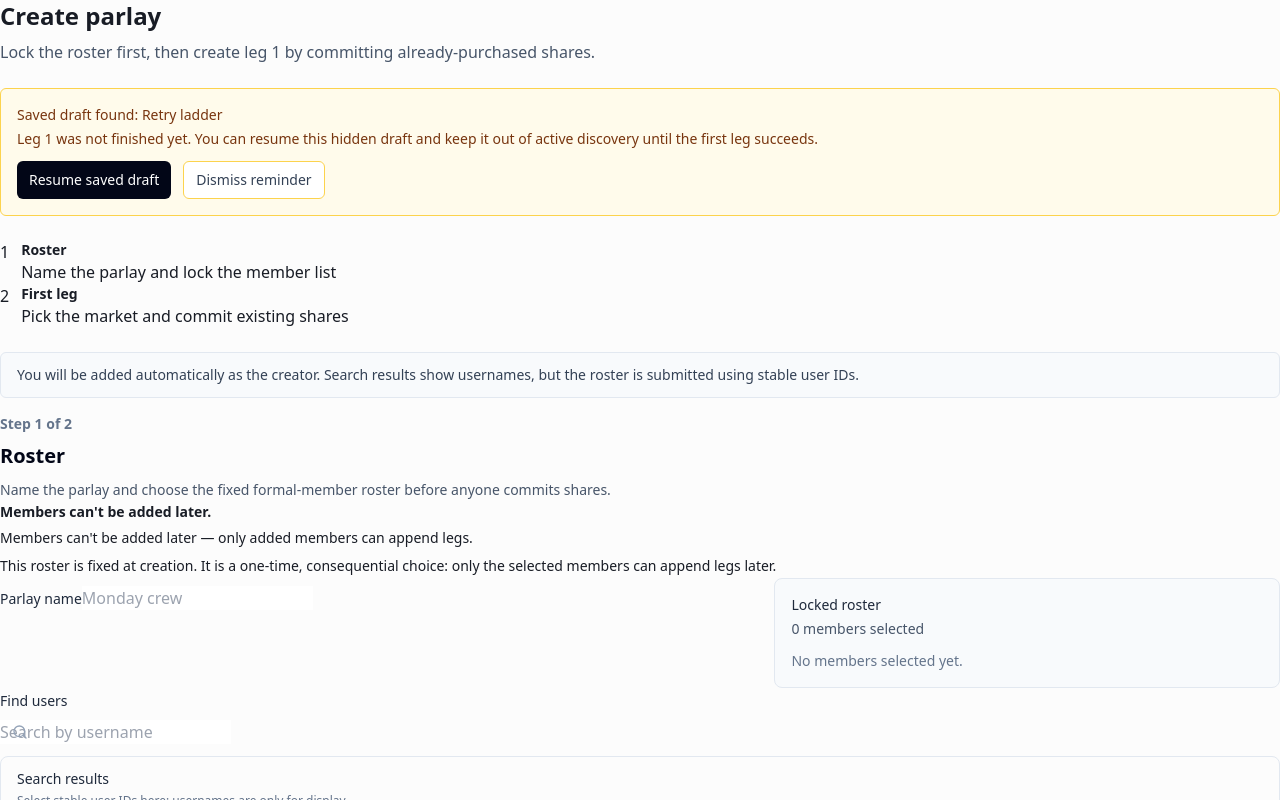
Test: ParlayCreateFlow › shows a neutral empty state pointing to /markets when the creator holds nothing yet
Type "Empty ladder" into the field labelled "Parlay name".
click(197, 598); type("Empty ladder")  # box x1=82 y1=586 x2=313 y2=610
(page scrolled)
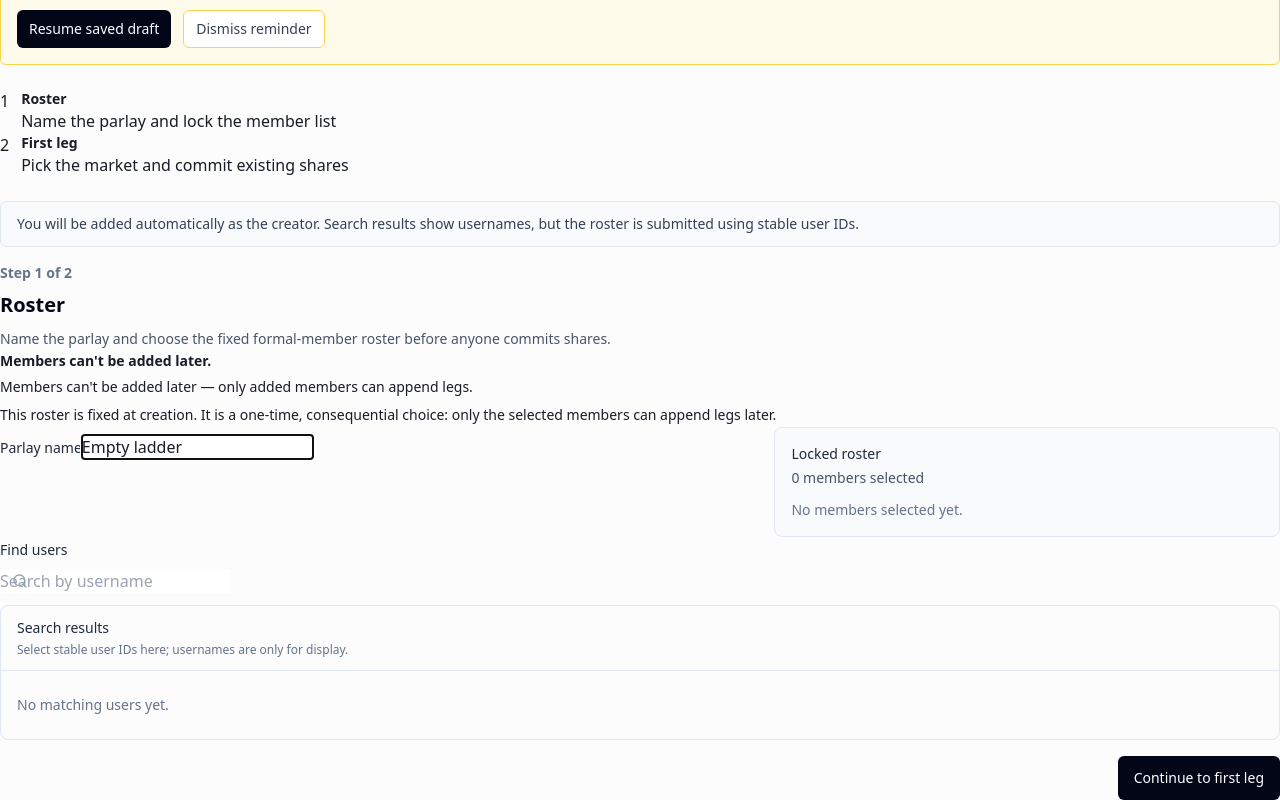
Click the button "Continue to first leg".
click(1199, 778)  # box x1=1118 y1=756 x2=1279 y2=799
(page scrolled)
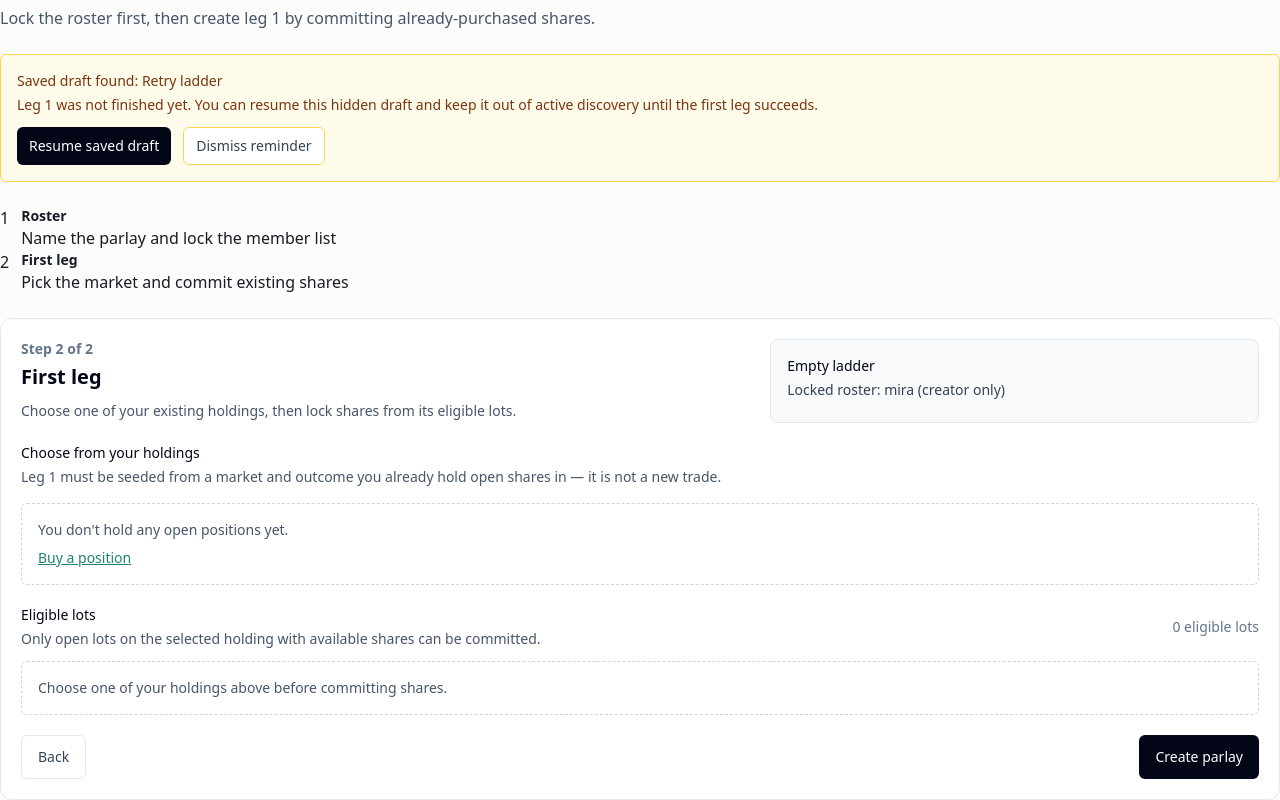
expect the text "You don't hold any open positions yet." is shown: met, box x1=38 y1=520 x2=288 y2=539
expect the text "Choose one of your holdings above before committing shares." is shown: met, box x1=21 y1=661 x2=1259 y2=715
